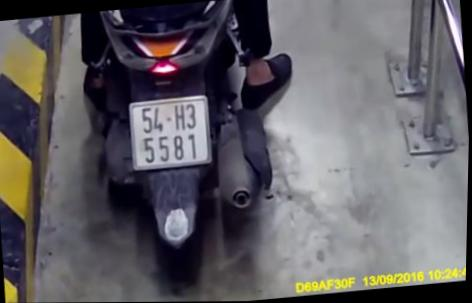LP: (128, 94, 215, 171)
